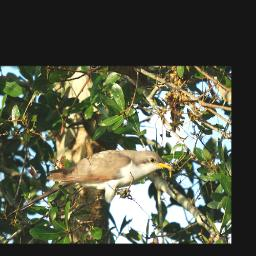Cuckoo: (44, 147, 176, 217)
